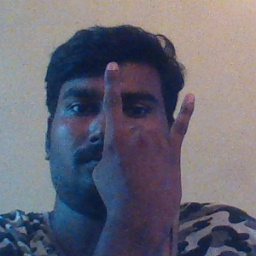V: (88, 58, 201, 231)
